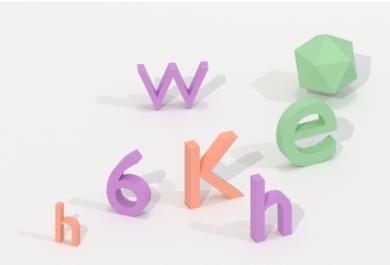0-TronCanh: (292, 30, 364, 96)
6: (103, 146, 154, 220)
K: (181, 126, 247, 213)
W: (134, 57, 210, 113)
e: (274, 95, 340, 168)
h: (247, 171, 295, 244), (52, 199, 83, 248)
